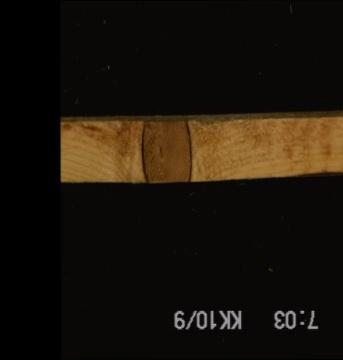edge_knot: (139, 115, 194, 184)
